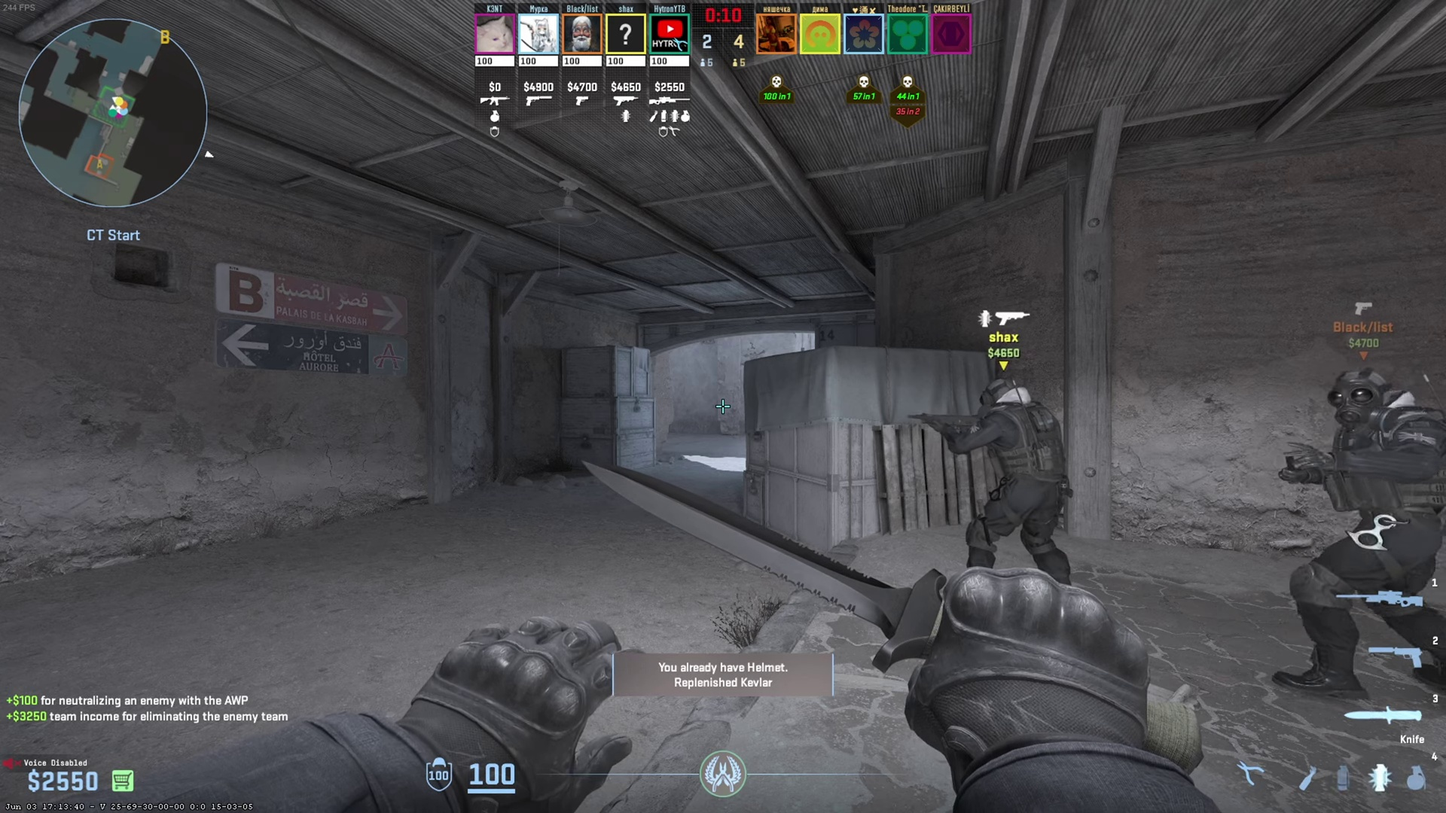CT: (1296, 363, 1445, 694), (962, 373, 1071, 589)
